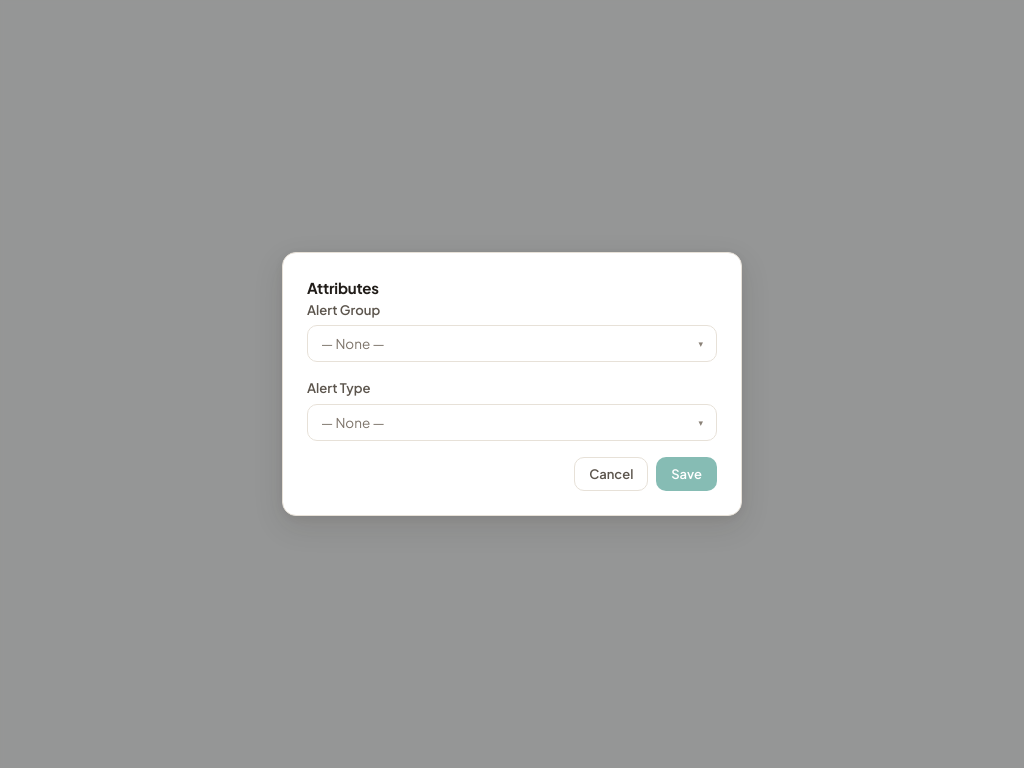
TaskAttributesModal › offers only active groups
The width and height of the screenshot is (1024, 768).
Click the button with aria-label "Alert Group:" at (353, 344), box top-left (307, 325), bottom-right (717, 362)
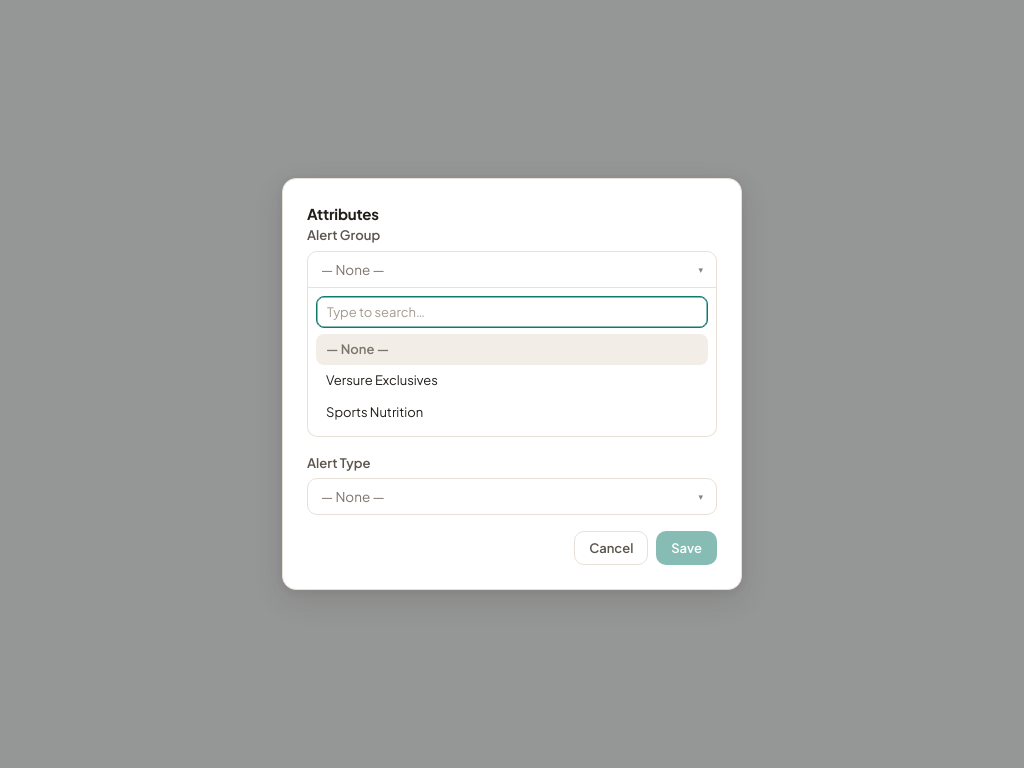
Expected: the options read "— None —", "Versure Exclusives", "Sports Nutrition", in this order, top-left (316, 334), bottom-right (708, 365); top-left (326, 372), bottom-right (438, 388); top-left (326, 404), bottom-right (423, 420)
